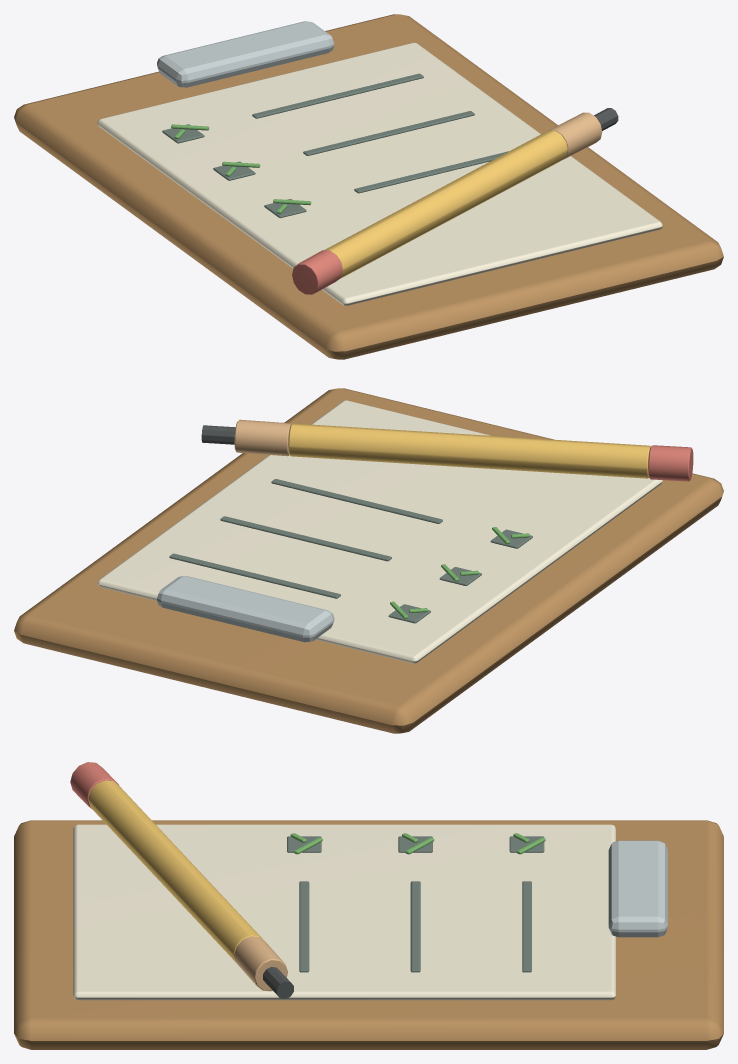
Rendered from FieldworkClipboard.glb.
The picture shows the model from 3 angles, top to bottom: view 1: azimuth 30°, elevation 25°; view 2: azimuth 150°, elevation 25°; view 3: azimuth 270°, elevation 25°; orthographic projection. The views are drawn at different scales.
Parts seen in each view (by area): view 1: FieldworkClipboard_Paper, FieldworkClipboard_Board, FieldworkClipboard_Pencil_Body, FieldworkClipboard_Clip, FieldworkClipboard_Pencil_Eraser, FieldworkClipboard_Pencil_Wood, FieldworkClipboard_Line_01, FieldworkClipboard_Line_02, FieldworkClipboard_Line_03; view 2: FieldworkClipboard_Paper, FieldworkClipboard_Board, FieldworkClipboard_Pencil_Body, FieldworkClipboard_Clip, FieldworkClipboard_Pencil_Wood, FieldworkClipboard_Pencil_Eraser, FieldworkClipboard_Line_01, FieldworkClipboard_Line_02, FieldworkClipboard_Line_03, FieldworkClipboard_Pencil_Graphite; view 3: FieldworkClipboard_Paper, FieldworkClipboard_Board, FieldworkClipboard_Pencil_Body, FieldworkClipboard_Clip, FieldworkClipboard_Pencil_Wood, FieldworkClipboard_Line_02, FieldworkClipboard_Line_03, FieldworkClipboard_Pencil_Eraser, FieldworkClipboard_Line_01, FieldworkClipboard_Pencil_Graphite.
Boxes of the visible parts, <box> form: FieldworkClipboard_Paper: <box>97,42,662,305</box>; FieldworkClipboard_Board: <box>14,14,723,359</box>; FieldworkClipboard_Pencil_Body: <box>324,130,567,278</box>; FieldworkClipboard_Clip: <box>157,21,334,87</box>; FieldworkClipboard_Pencil_Eraser: <box>292,250,342,294</box>; FieldworkClipboard_Pencil_Wood: <box>549,112,602,159</box>; FieldworkClipboard_Line_01: <box>252,73,423,118</box>; FieldworkClipboard_Line_02: <box>303,111,474,155</box>; FieldworkClipboard_Line_03: <box>354,151,508,193</box>; FieldworkClipboard_Paper: <box>97,400,662,663</box>; FieldworkClipboard_Board: <box>14,388,723,733</box>; FieldworkClipboard_Pencil_Body: <box>288,423,650,478</box>; FieldworkClipboard_Clip: <box>157,576,334,642</box>; FieldworkClipboard_Pencil_Wood: <box>234,419,291,456</box>; FieldworkClipboard_Pencil_Eraser: <box>648,445,693,481</box>; FieldworkClipboard_Line_01: <box>169,553,340,598</box>; FieldworkClipboard_Line_02: <box>220,516,391,561</box>; FieldworkClipboard_Line_03: <box>271,479,442,523</box>; FieldworkClipboard_Pencil_Graphite: <box>201,425,235,444</box>; FieldworkClipboard_Paper: <box>73,824,615,1000</box>; FieldworkClipboard_Board: <box>14,820,723,1049</box>; FieldworkClipboard_Pencil_Body: <box>88,780,264,962</box>; FieldworkClipboard_Clip: <box>608,840,667,937</box>; FieldworkClipboard_Pencil_Wood: <box>234,936,287,991</box>; FieldworkClipboard_Line_02: <box>410,881,420,972</box>; FieldworkClipboard_Line_03: <box>299,881,309,972</box>; FieldworkClipboard_Pencil_Eraser: <box>70,762,119,808</box>; FieldworkClipboard_Line_01: <box>522,881,531,972</box>; FieldworkClipboard_Pencil_Graphite: <box>263,966,293,998</box>.
Bounding box in the file's own units: 0.7349 × 0.137 × 1.02.
